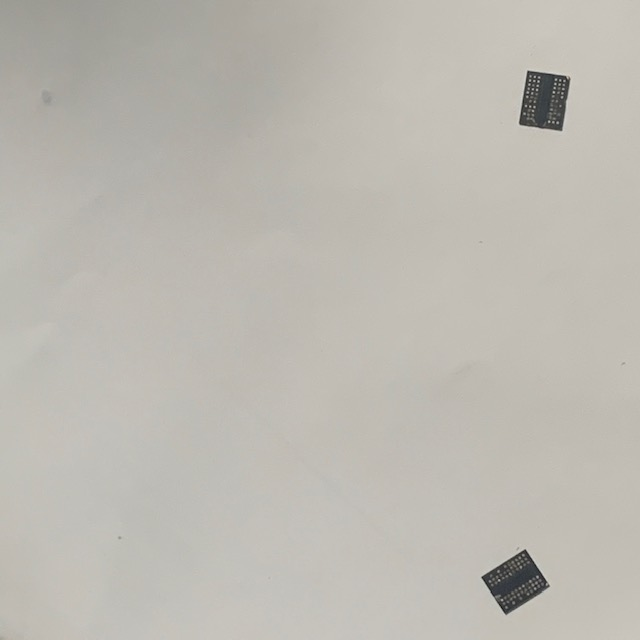IC: (478, 546, 553, 616), (516, 66, 574, 135)
